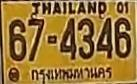3: (77, 17, 94, 58)
4: (59, 17, 76, 59), (96, 17, 112, 58)
6: (8, 18, 25, 60), (114, 17, 130, 57)
7: (28, 17, 44, 60)
BKK: (28, 66, 114, 84)
